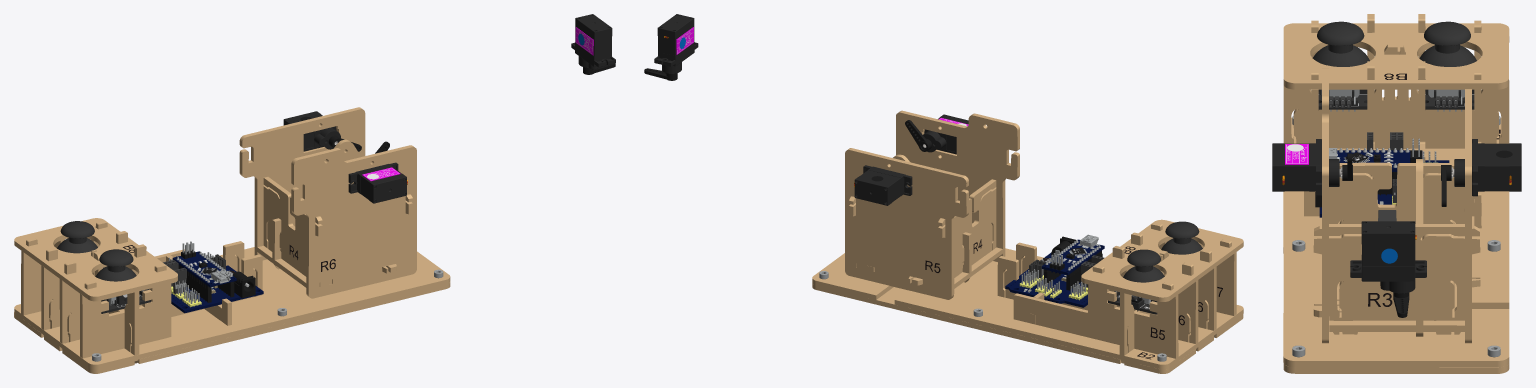
3 renders of one model, left to right at view 1: azimuth 30°, elevation 25°; view 2: azimuth 150°, elevation 25°; view 3: azimuth 270°, elevation 25°, orthographic. The views are drawn at different scales.
Parts seen in each view (by area): view 1: NAUO14, NAUO2, NAUO15, NAUO8, NAUO7, NAUO13, NAUO1, NAUO6, NAUO82, NAUO5, NAUO72, NAUO66 (+8 smaller); view 2: NAUO15, NAUO2, NAUO14, NAUO4, NAUO8, NAUO13, NAUO1, NAUO82, NAUO5, NAUO72, NAUO6, NAUO58 (+8 smaller); view 3: NAUO2, NAUO8, NAUO12, NAUO9, NAUO13, NAUO72, NAUO58, NAUO66, NAUO80, NAUO81, NAUO10, NAUO1 (+14 smaller).
Boxes of the visible parts, x1,y1,x2,y2 form: NAUO14: [291, 145, 416, 298]; NAUO2: [14, 247, 450, 369]; NAUO15: [239, 107, 365, 260]; NAUO8: [14, 218, 177, 301]; NAUO7: [80, 264, 171, 358]; NAUO13: [263, 177, 322, 276]; NAUO1: [14, 282, 450, 373]; NAUO6: [59, 244, 262, 348]; NAUO82: [168, 252, 263, 313]; NAUO5: [41, 231, 244, 335]; NAUO72: [571, 14, 615, 69]; NAUO66: [348, 162, 407, 203]; NAUO15: [845, 148, 968, 299]; NAUO2: [812, 248, 1243, 369]; NAUO14: [896, 110, 1019, 261]; NAUO4: [1013, 265, 1178, 358]; NAUO8: [1081, 219, 1243, 301]; NAUO13: [938, 179, 996, 277]; NAUO1: [812, 283, 1243, 373]; NAUO82: [1005, 236, 1102, 307]; NAUO5: [997, 246, 1198, 349]; NAUO72: [654, 14, 698, 73]; NAUO6: [1016, 232, 1216, 336]; NAUO58: [854, 165, 912, 205]; NAUO2: [1283, 117, 1509, 367]; NAUO8: [1283, 23, 1509, 89]; NAUO12: [1313, 224, 1480, 334]; NAUO9: [1283, 44, 1509, 148]; NAUO13: [1314, 162, 1478, 235]; NAUO72: [1350, 221, 1426, 293]; NAUO58: [1451, 139, 1521, 196]; NAUO66: [1272, 139, 1342, 196]; NAUO80: [1419, 21, 1476, 111]; NAUO81: [1312, 21, 1369, 111]; NAUO10: [1313, 272, 1480, 331]; NAUO1: [1283, 191, 1509, 373].
Bounding box in the file's own units: 381 × 125 × 105.
